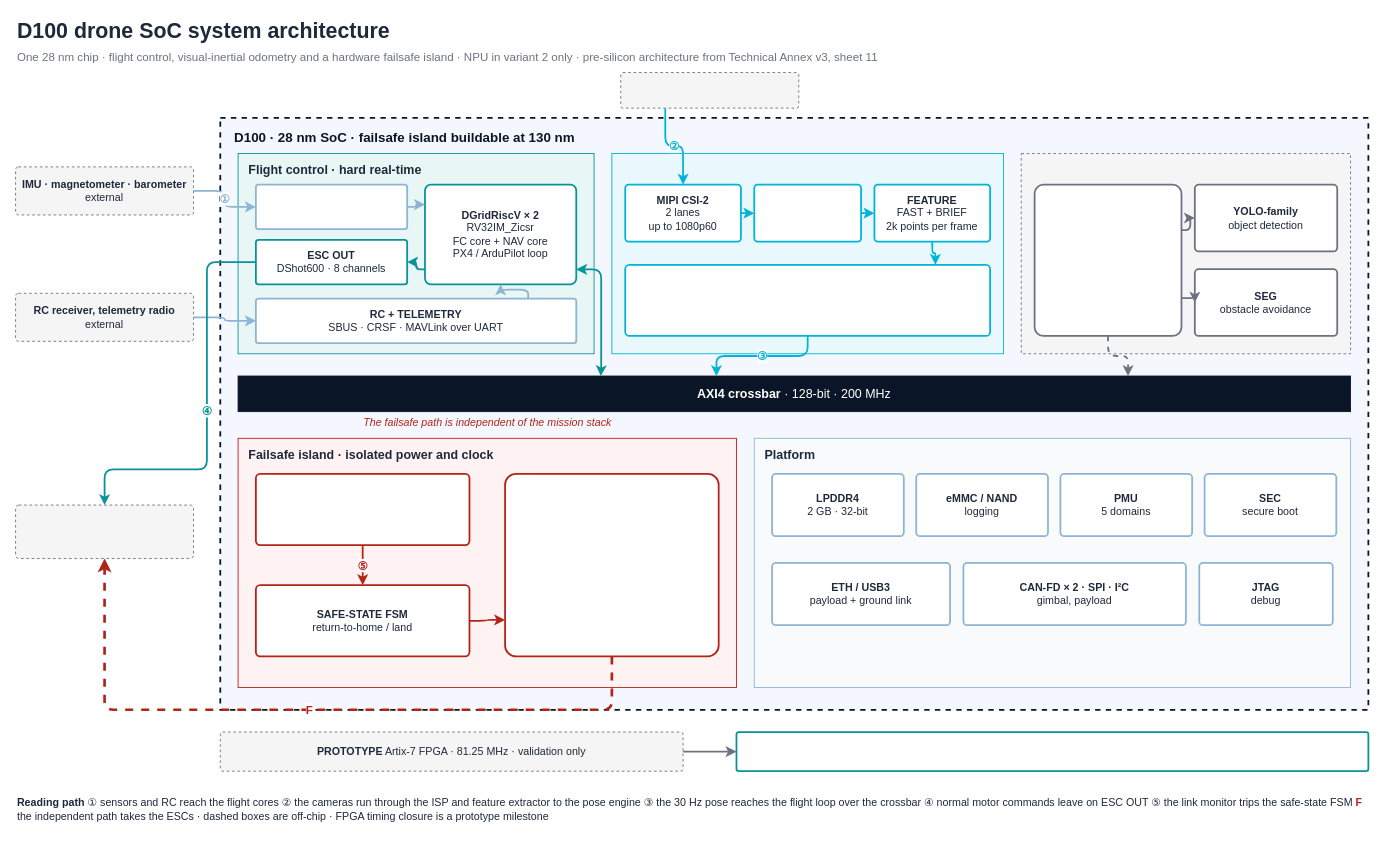
Some shapes in this 1385 by 844 pixel diagram are drawn without their labels. Each missing label, with the box of its shape:
AI · phase 2 · on the 28 nm chip: (1020, 153, 1351, 354)
Cameras external: (620, 72, 799, 108)
ESCs and motors external: (15, 504, 194, 558)
IMU / MAG / BARO SPI × 3 · 8 kHz: (255, 183, 408, 230)
INDEPENDENT PATH direct to the ESCs bypasses FC, VIO and AI: (504, 473, 719, 657)
ISP rectify + LSC: (753, 183, 862, 242)
LINK MONITOR RC loss · GPS loss · IMU fault hardware, not firmware: (255, 473, 470, 546)
NPU INT8 / INT4 ~10 TOPS class MAC array · SRAM 2 MB · DMA: (1033, 183, 1182, 336)
POSE ENGINE EKF · IMU pre-integration · sliding-window BA 30 Hz pose, 6-DoF: (624, 263, 991, 336)
PRODUCT 28 nm SoC · failsafe island buildable at 130 nm: (735, 731, 1369, 772)
Visual-inertial odometry: (611, 153, 1003, 354)
